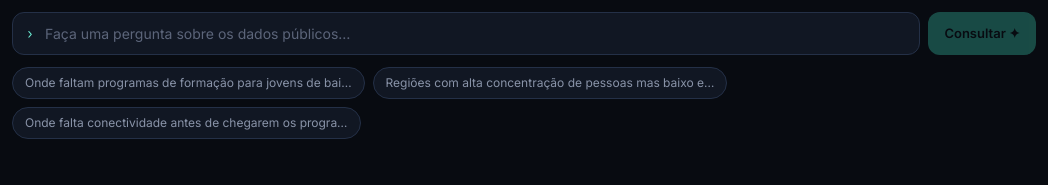
Scenario: AIQueryBar › mostra a mensagem real do servidor quando o agente falha
Type "qualquer pergunta" into the field with placeholder "Faça uma pergunta sobre os dados públicos…". click: (466, 34)
box: [12,12,920,55]
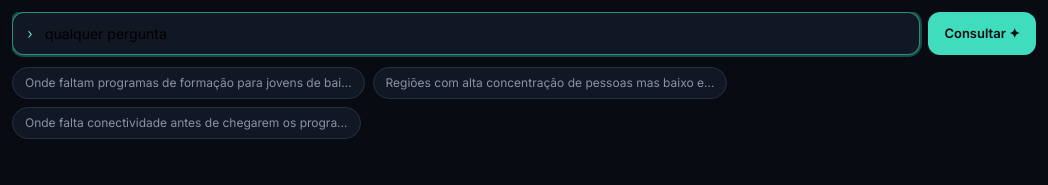
Click the button "Consultar ✦". click: (982, 34)
box: [928,12,1036,55]
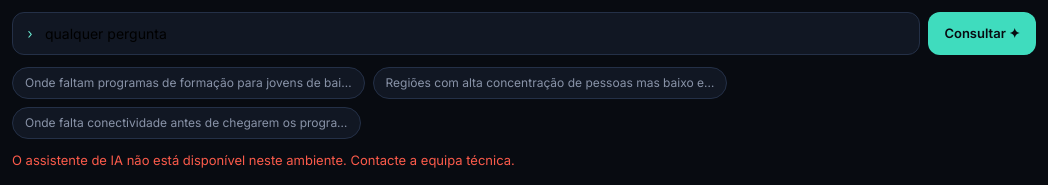
Result: the message shows "O assistente de IA não está disponível neste ambiente." at [12,152,515,168]
